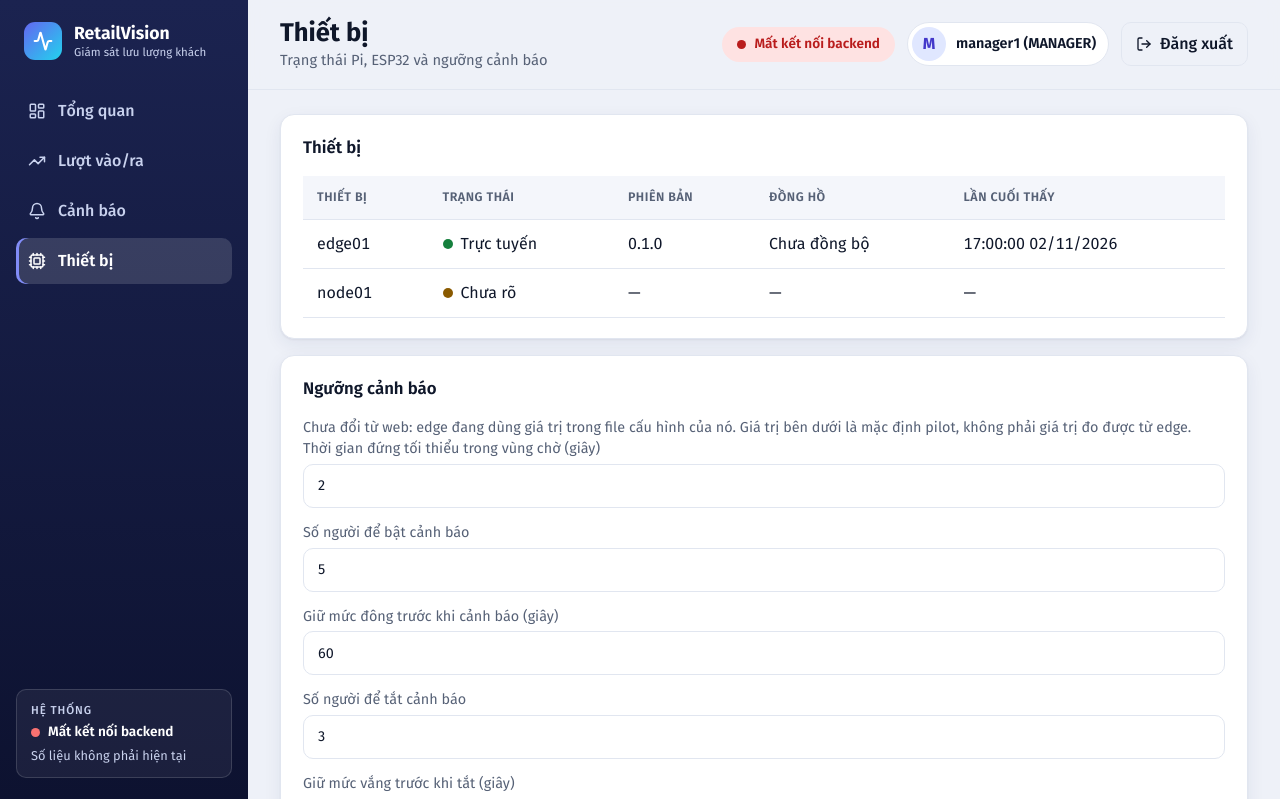
it: trang Thiết bị và đổi ngưỡng › gửi đúng nội dung và CSRF; hiện 'đang chờ' rồi 'đã áp dụng' khi edge trả lời
Check: the text with test id "settings-source" is shown, box [303,417,1225,438]
Replace the text in the field labelled "Số người để bật cảnh báo" with "6": (764, 570) [303,548,1225,592]
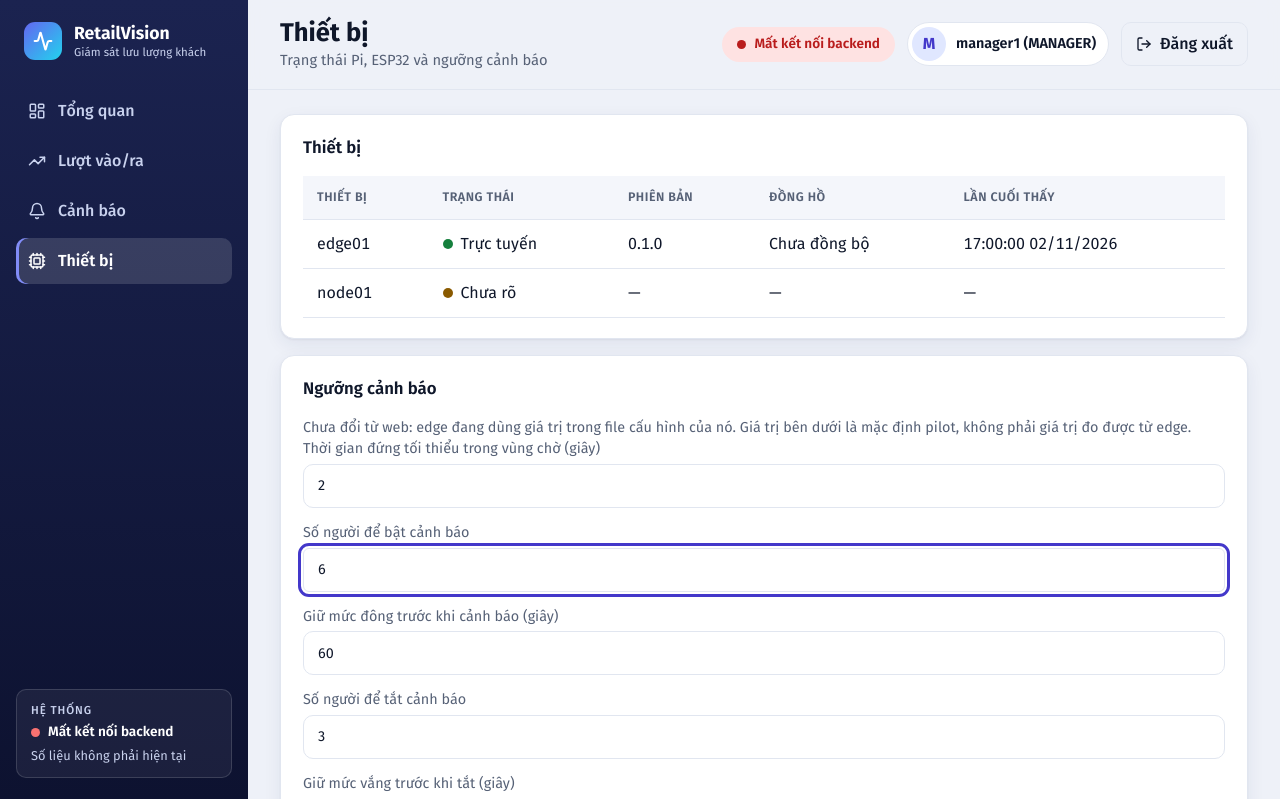
Replace the text in the field labelled "Số người để tắt cảnh báo" with "2": (764, 737) [303,715,1225,759]
(page scrolled)
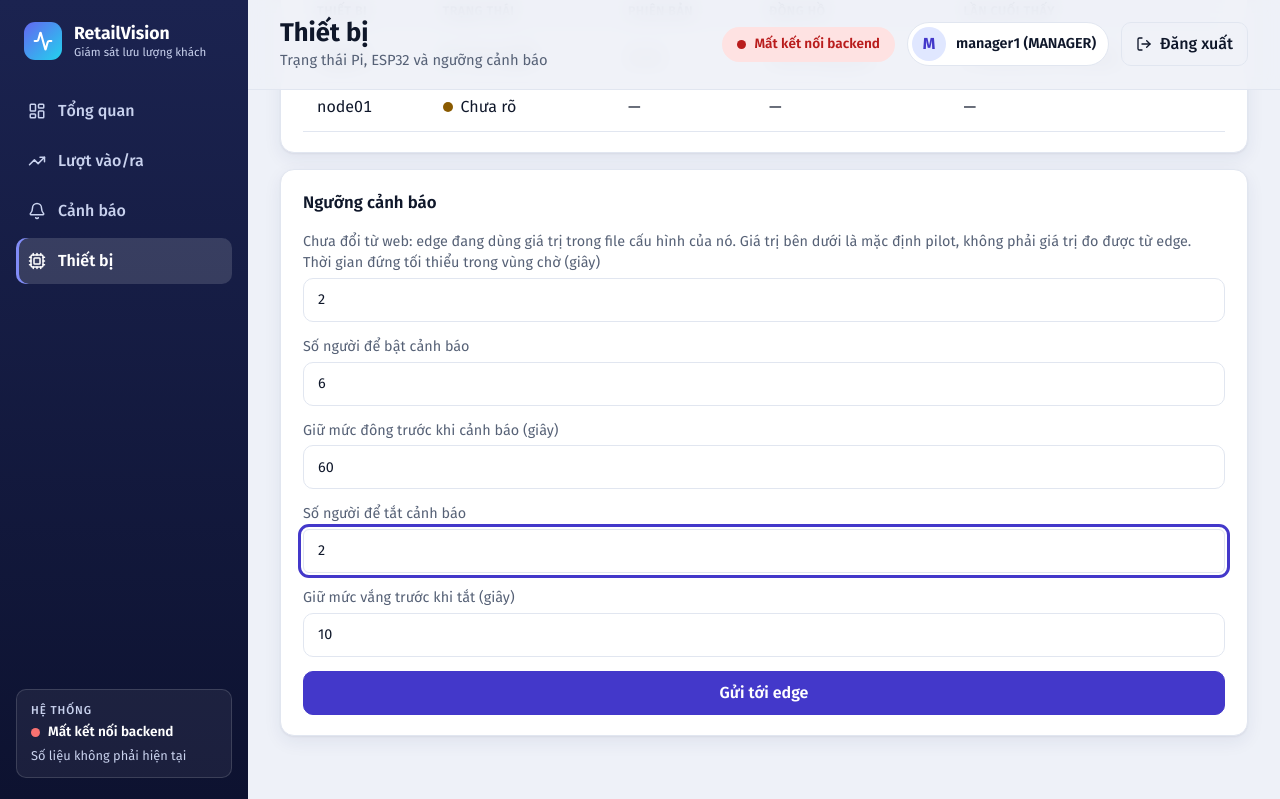
Click the button "Gửi tới edge": (764, 692) [303,670,1225,714]
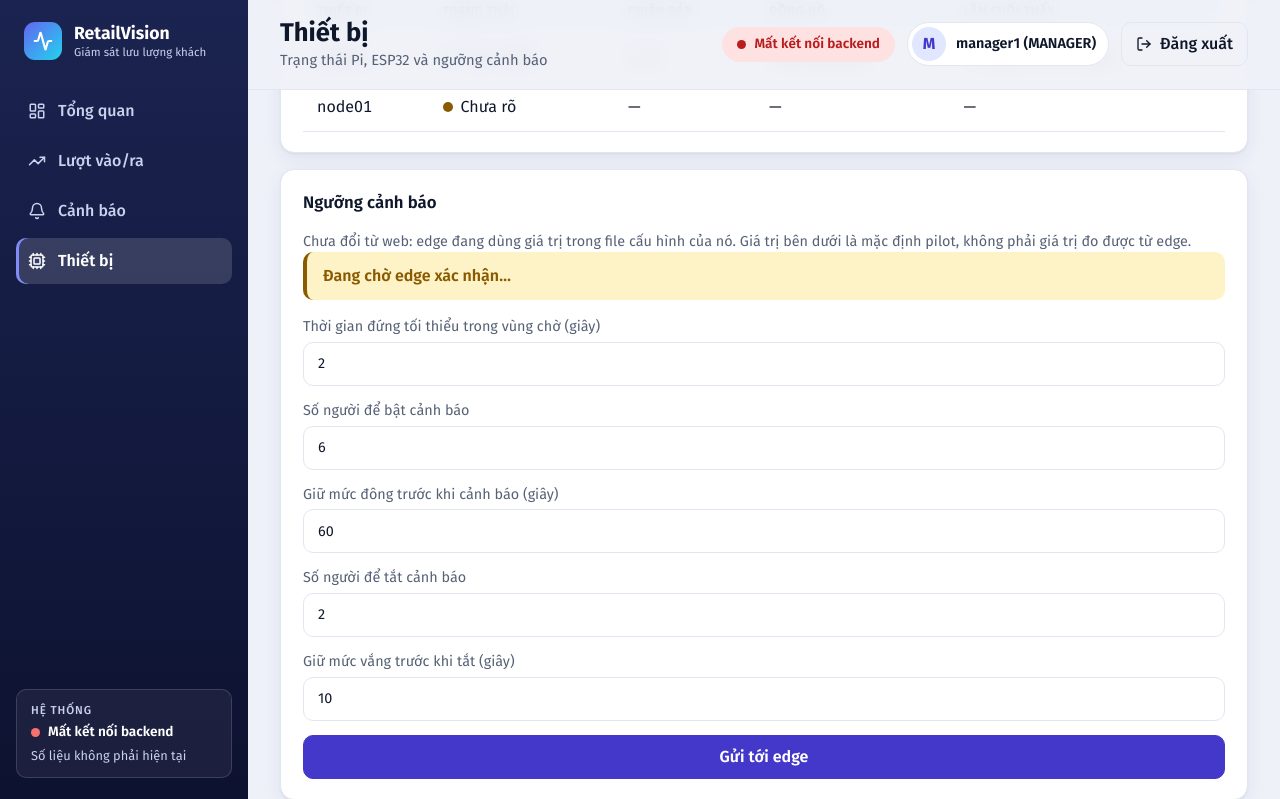
Check: the text "Đang chờ edge xác nhận…" is shown, box [323,266,511,286]
Click the link "Thiết bị": (124, 261) [16,238,232,284]
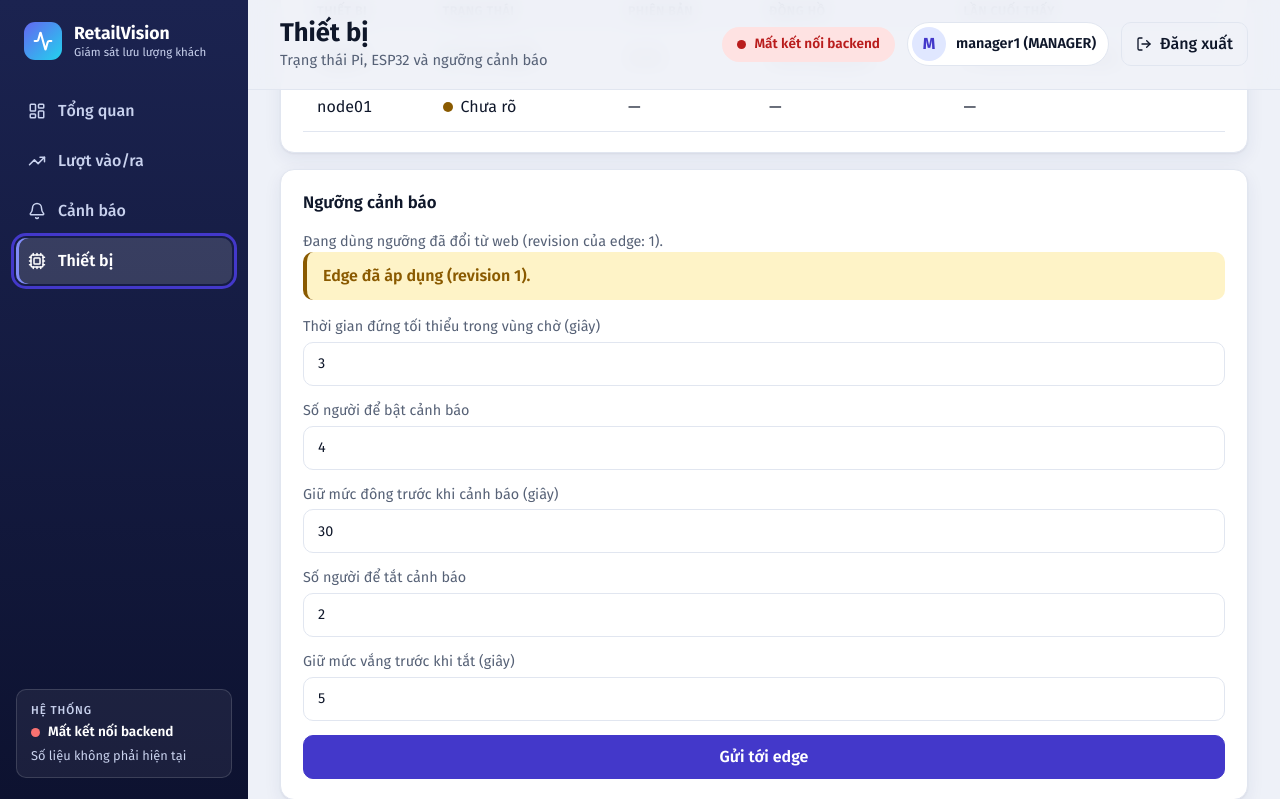
Check: the text with test id "settings-status" shows "đã áp dụng", box [323,266,530,286]
